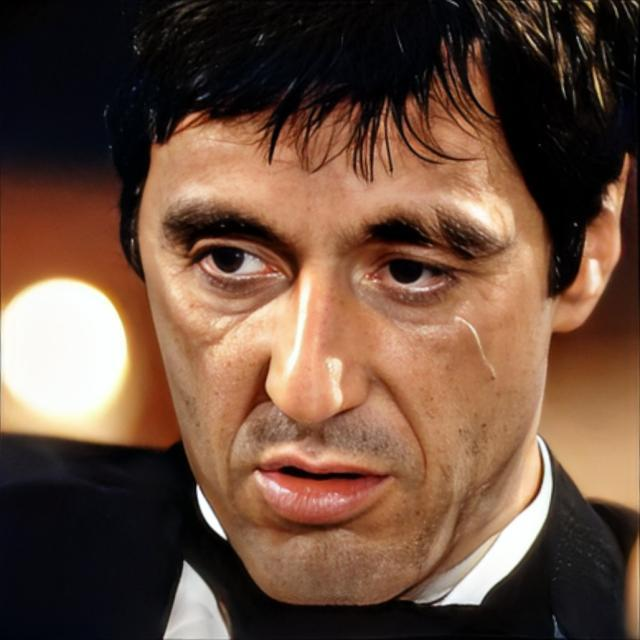disgust: (135, 33, 550, 607)
